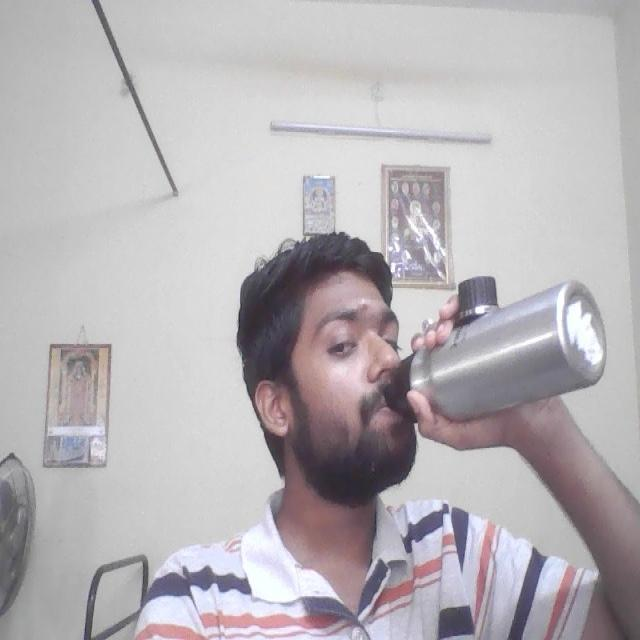Drinking: (376, 271, 620, 418)
